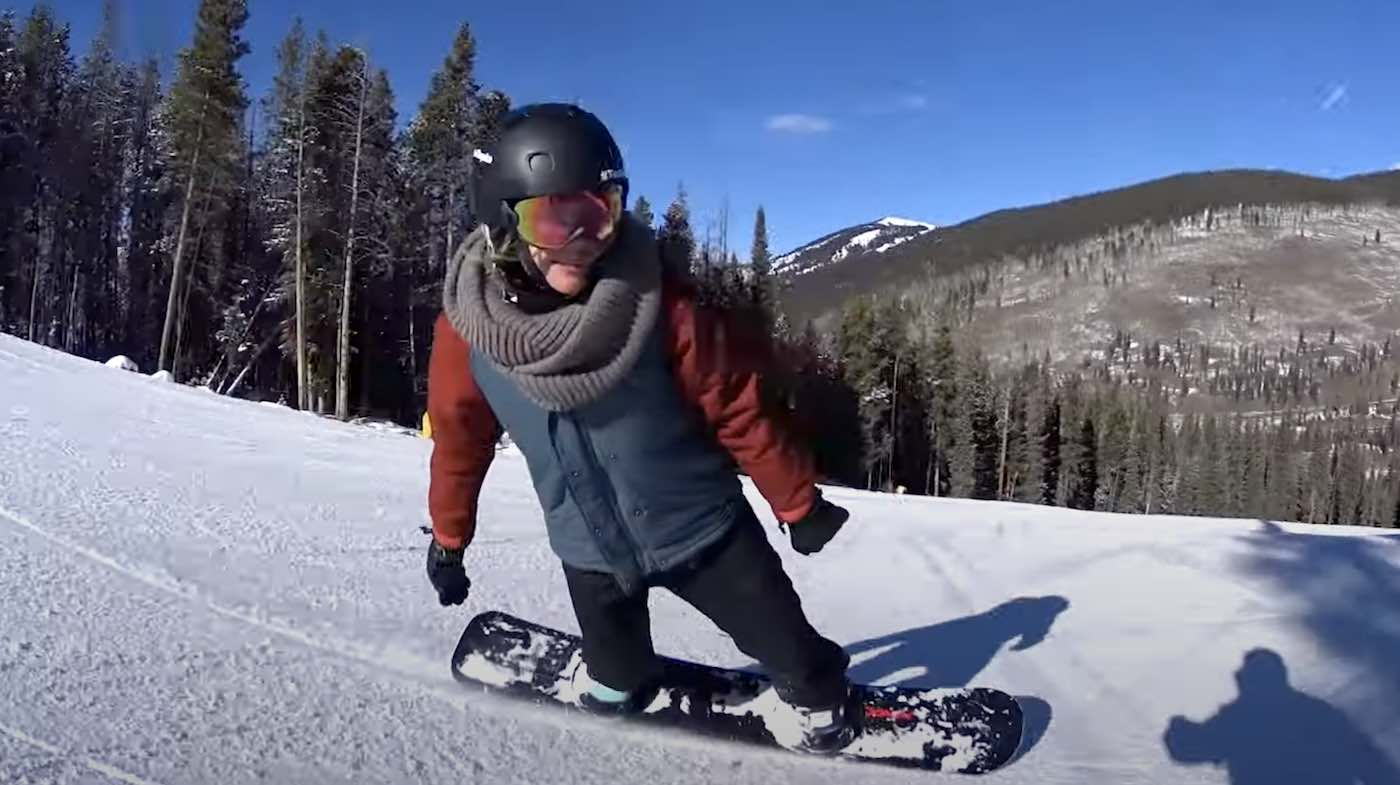snowboarder: (418, 85, 1040, 782)
